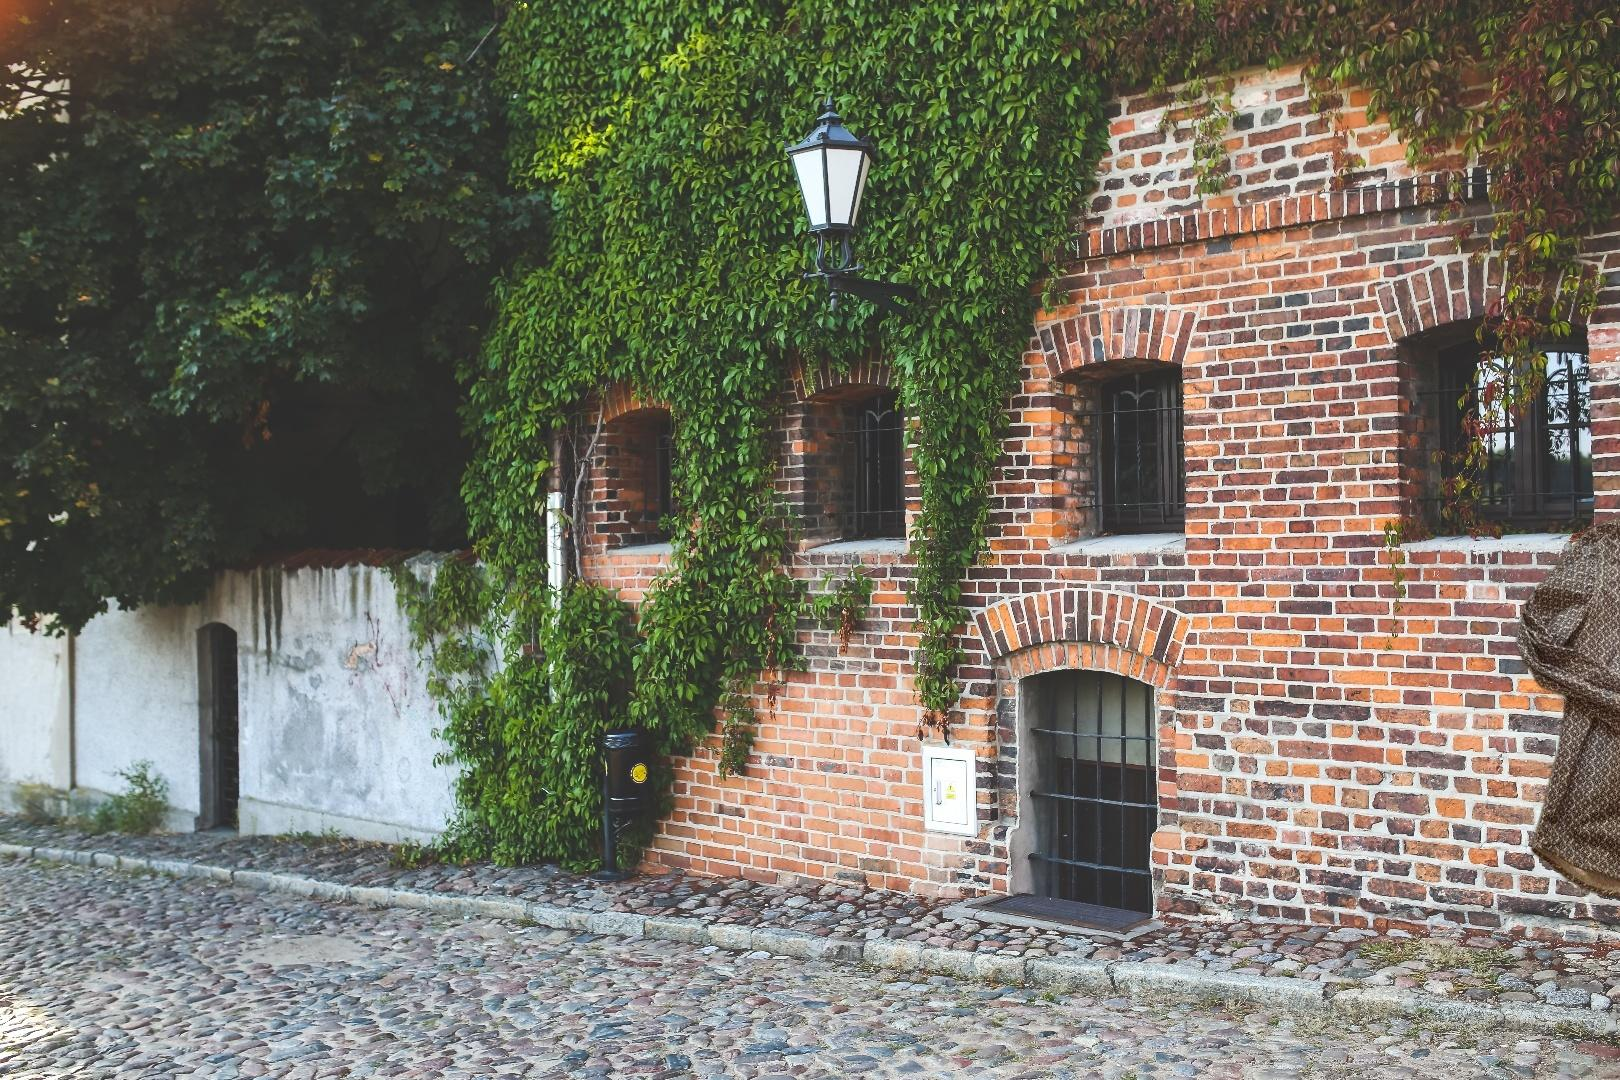clothes: (1509, 486, 1620, 906)
